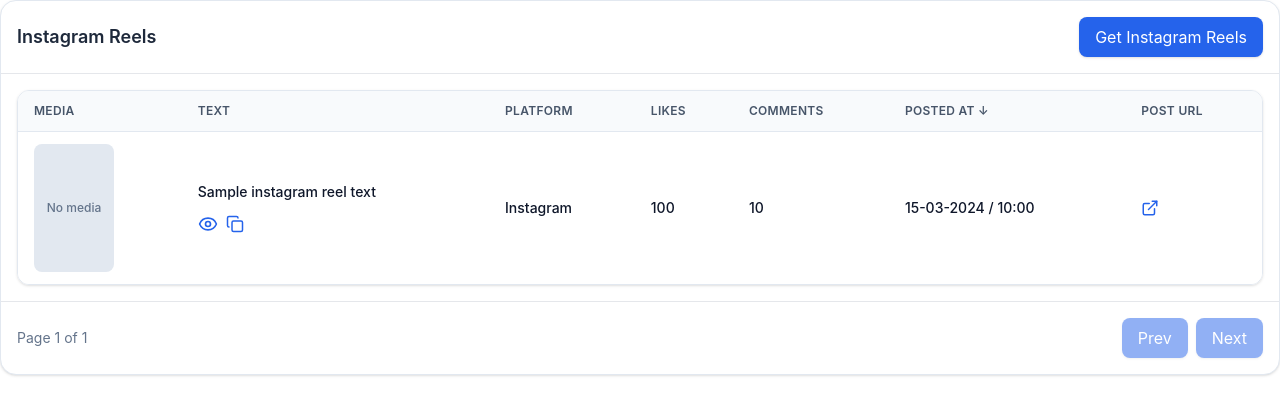
Test: InstagramReelsTable › column sorting › clicking "Likes" header twice toggles to ↑ sort indicator
The image size is (1280, 393).
Click the column heading "Likes" at x=684, y=111, box [635, 91, 733, 132]
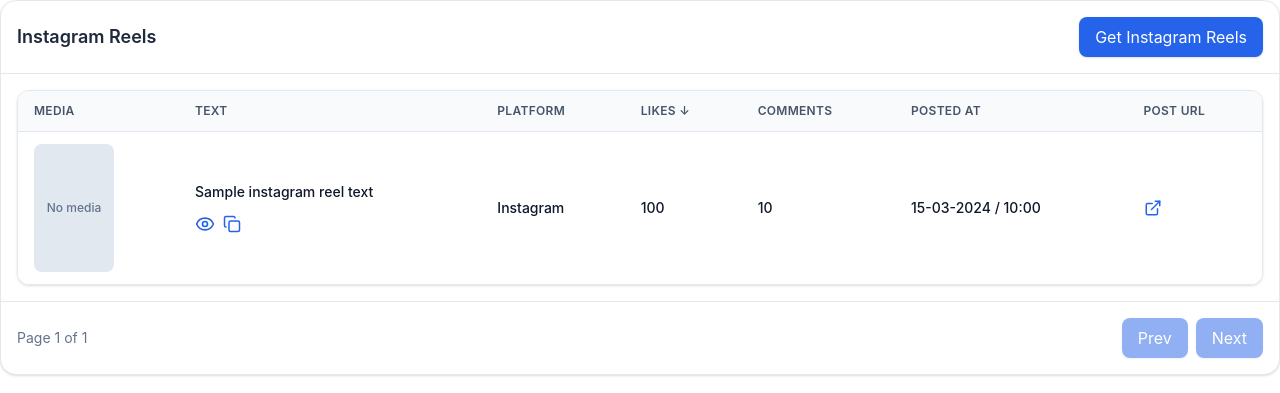
Click the column heading "Likes ↓" at x=683, y=111, box [625, 91, 742, 132]
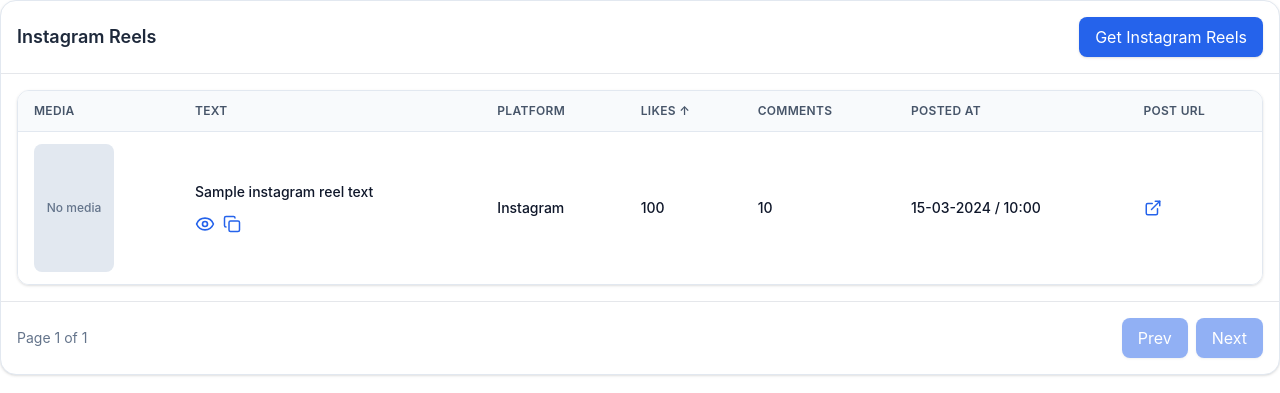
expect the column heading "Likes ↑" is shown: met, box [625, 91, 742, 132]
